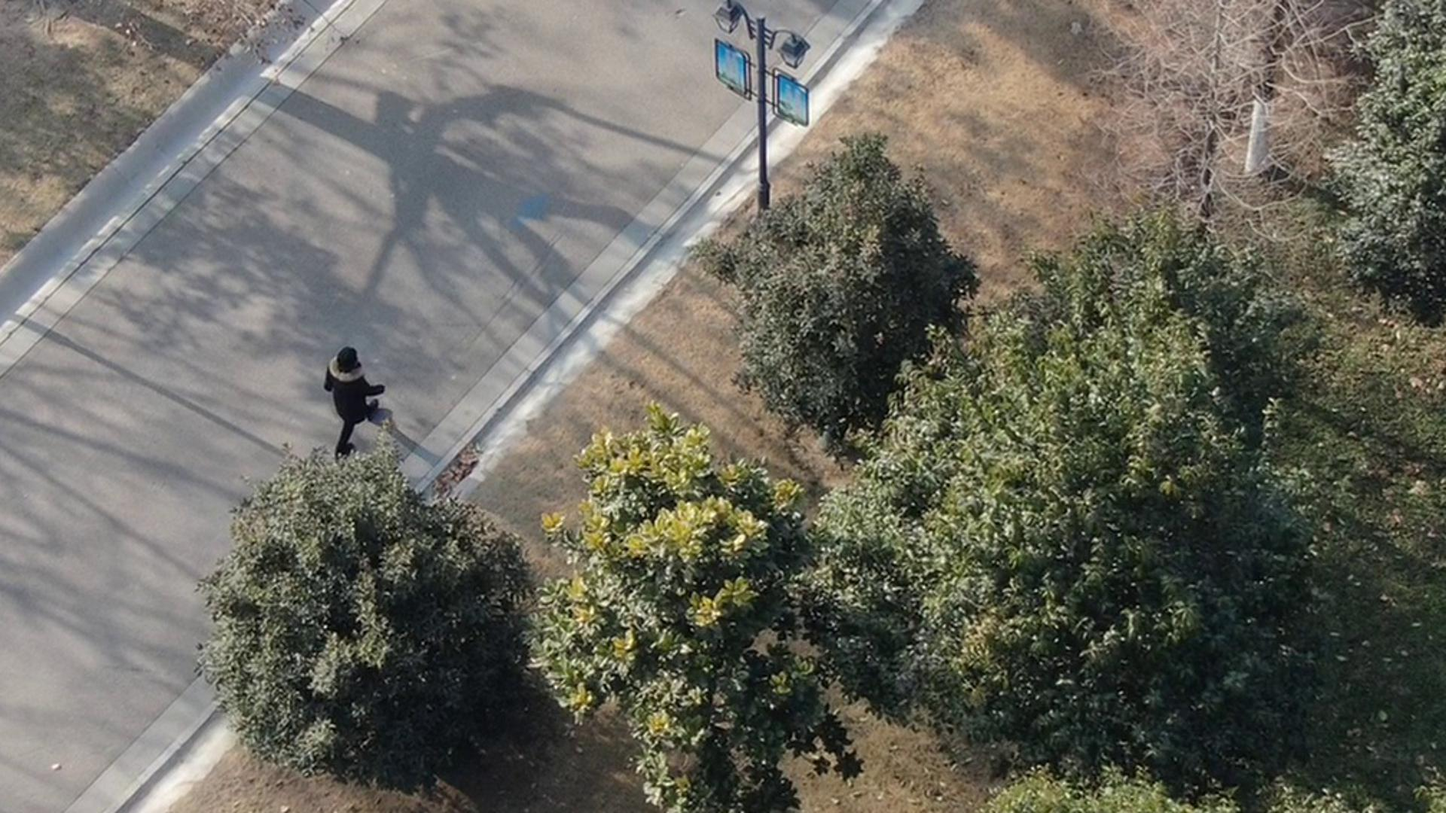human: (313, 324, 380, 437)
